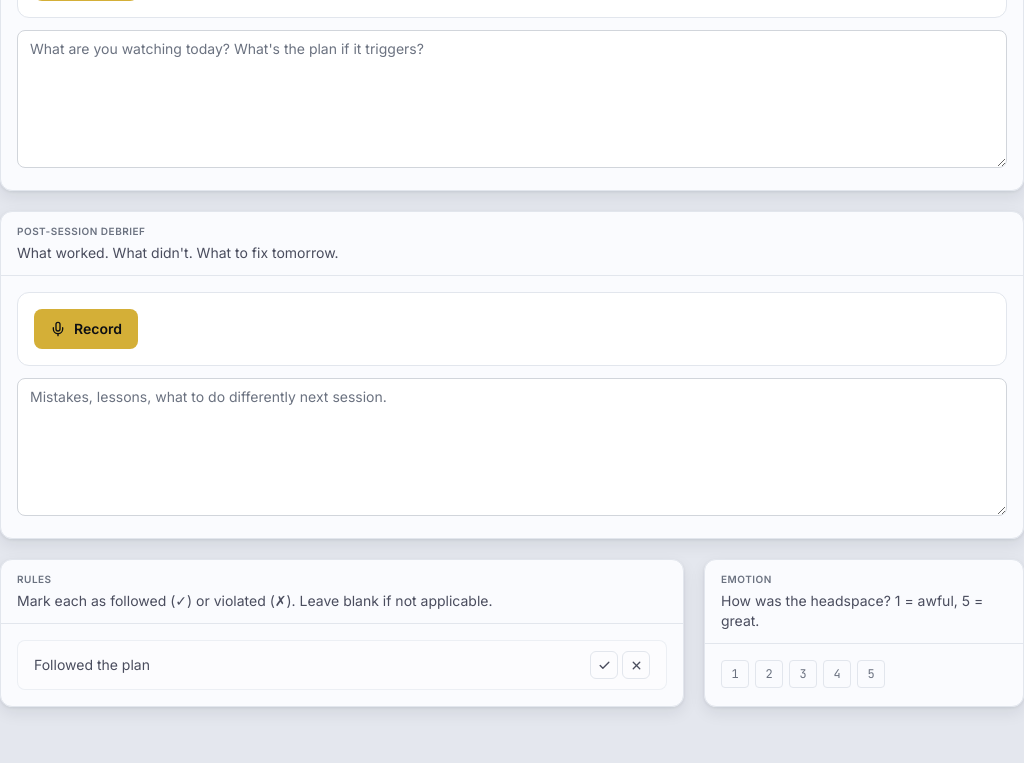
it: Journal — recording-metadata line (postsession + singular) › postsession shows its own count; a single word is singular
(page scrolled)
Type "one" into the text box with placeholder "Mistakes, lessons, what to do differently next session.".
click(512, 447); type("one")  # box [17, 378, 1007, 516]
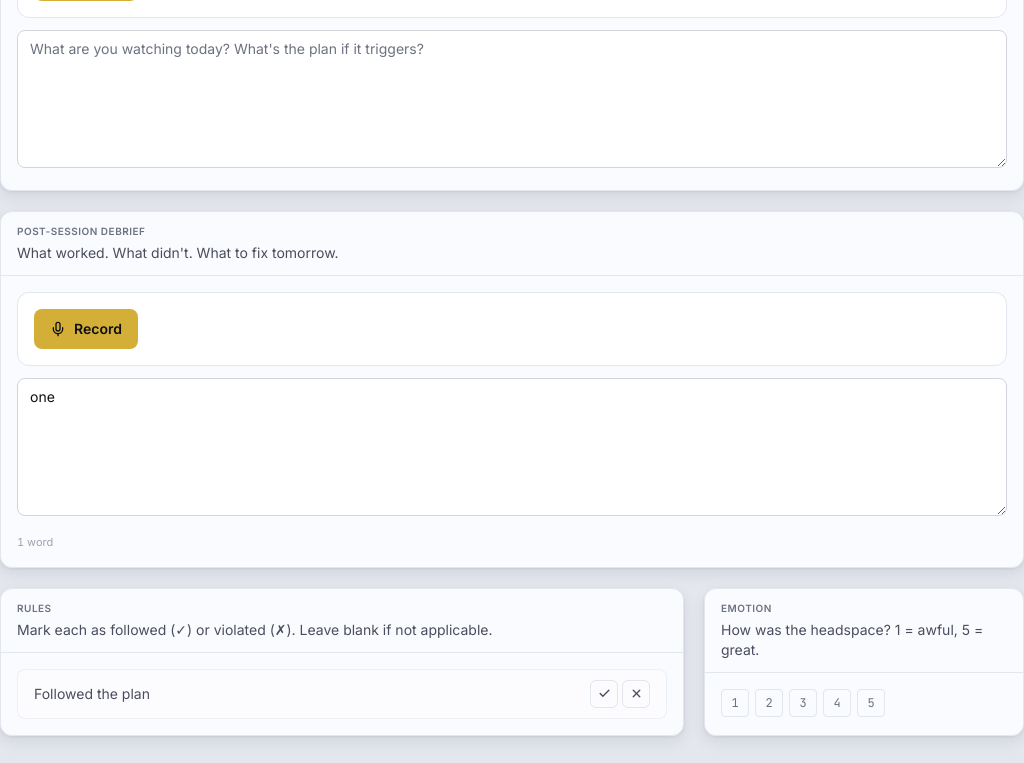
Now the text "1 word" is shown, box [17, 535, 53, 549]
